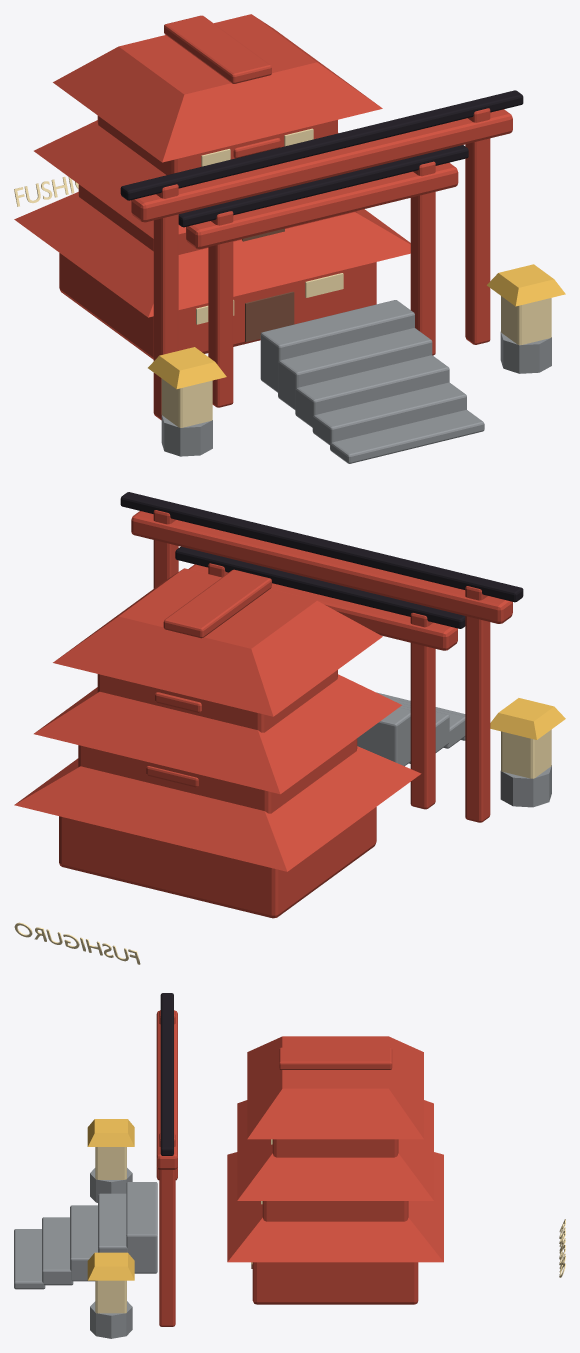
The model's file is 09_fushiguro.glb.
3 renders of one model, top to bottom at view 1: azimuth 30°, elevation 25°; view 2: azimuth 150°, elevation 25°; view 3: azimuth 270°, elevation 25°, orthographic. The views are drawn at different scales.
Visible parts, largest first — view 1: torii_post_L.008, FushiguroLabel; view 2: torii_post_L.008, FushiguroLabel; view 3: torii_post_L.008.
Boxes of the visible parts, x1,y1,x2,y2 form: torii_post_L.008: (14, 14, 565, 463); FushiguroLabel: (14, 177, 78, 206); torii_post_L.008: (14, 492, 565, 918); FushiguroLabel: (14, 922, 140, 964); torii_post_L.008: (14, 993, 443, 1338).
Size of the model in its own units: 7.25 by 4.51 by 10.83.
